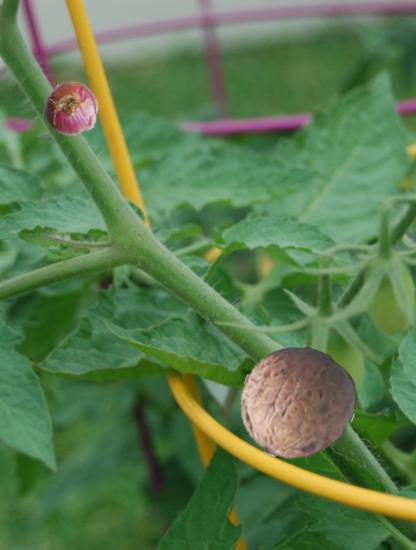Onion: (44, 81, 101, 138)
Walnut: (240, 347, 355, 462)
